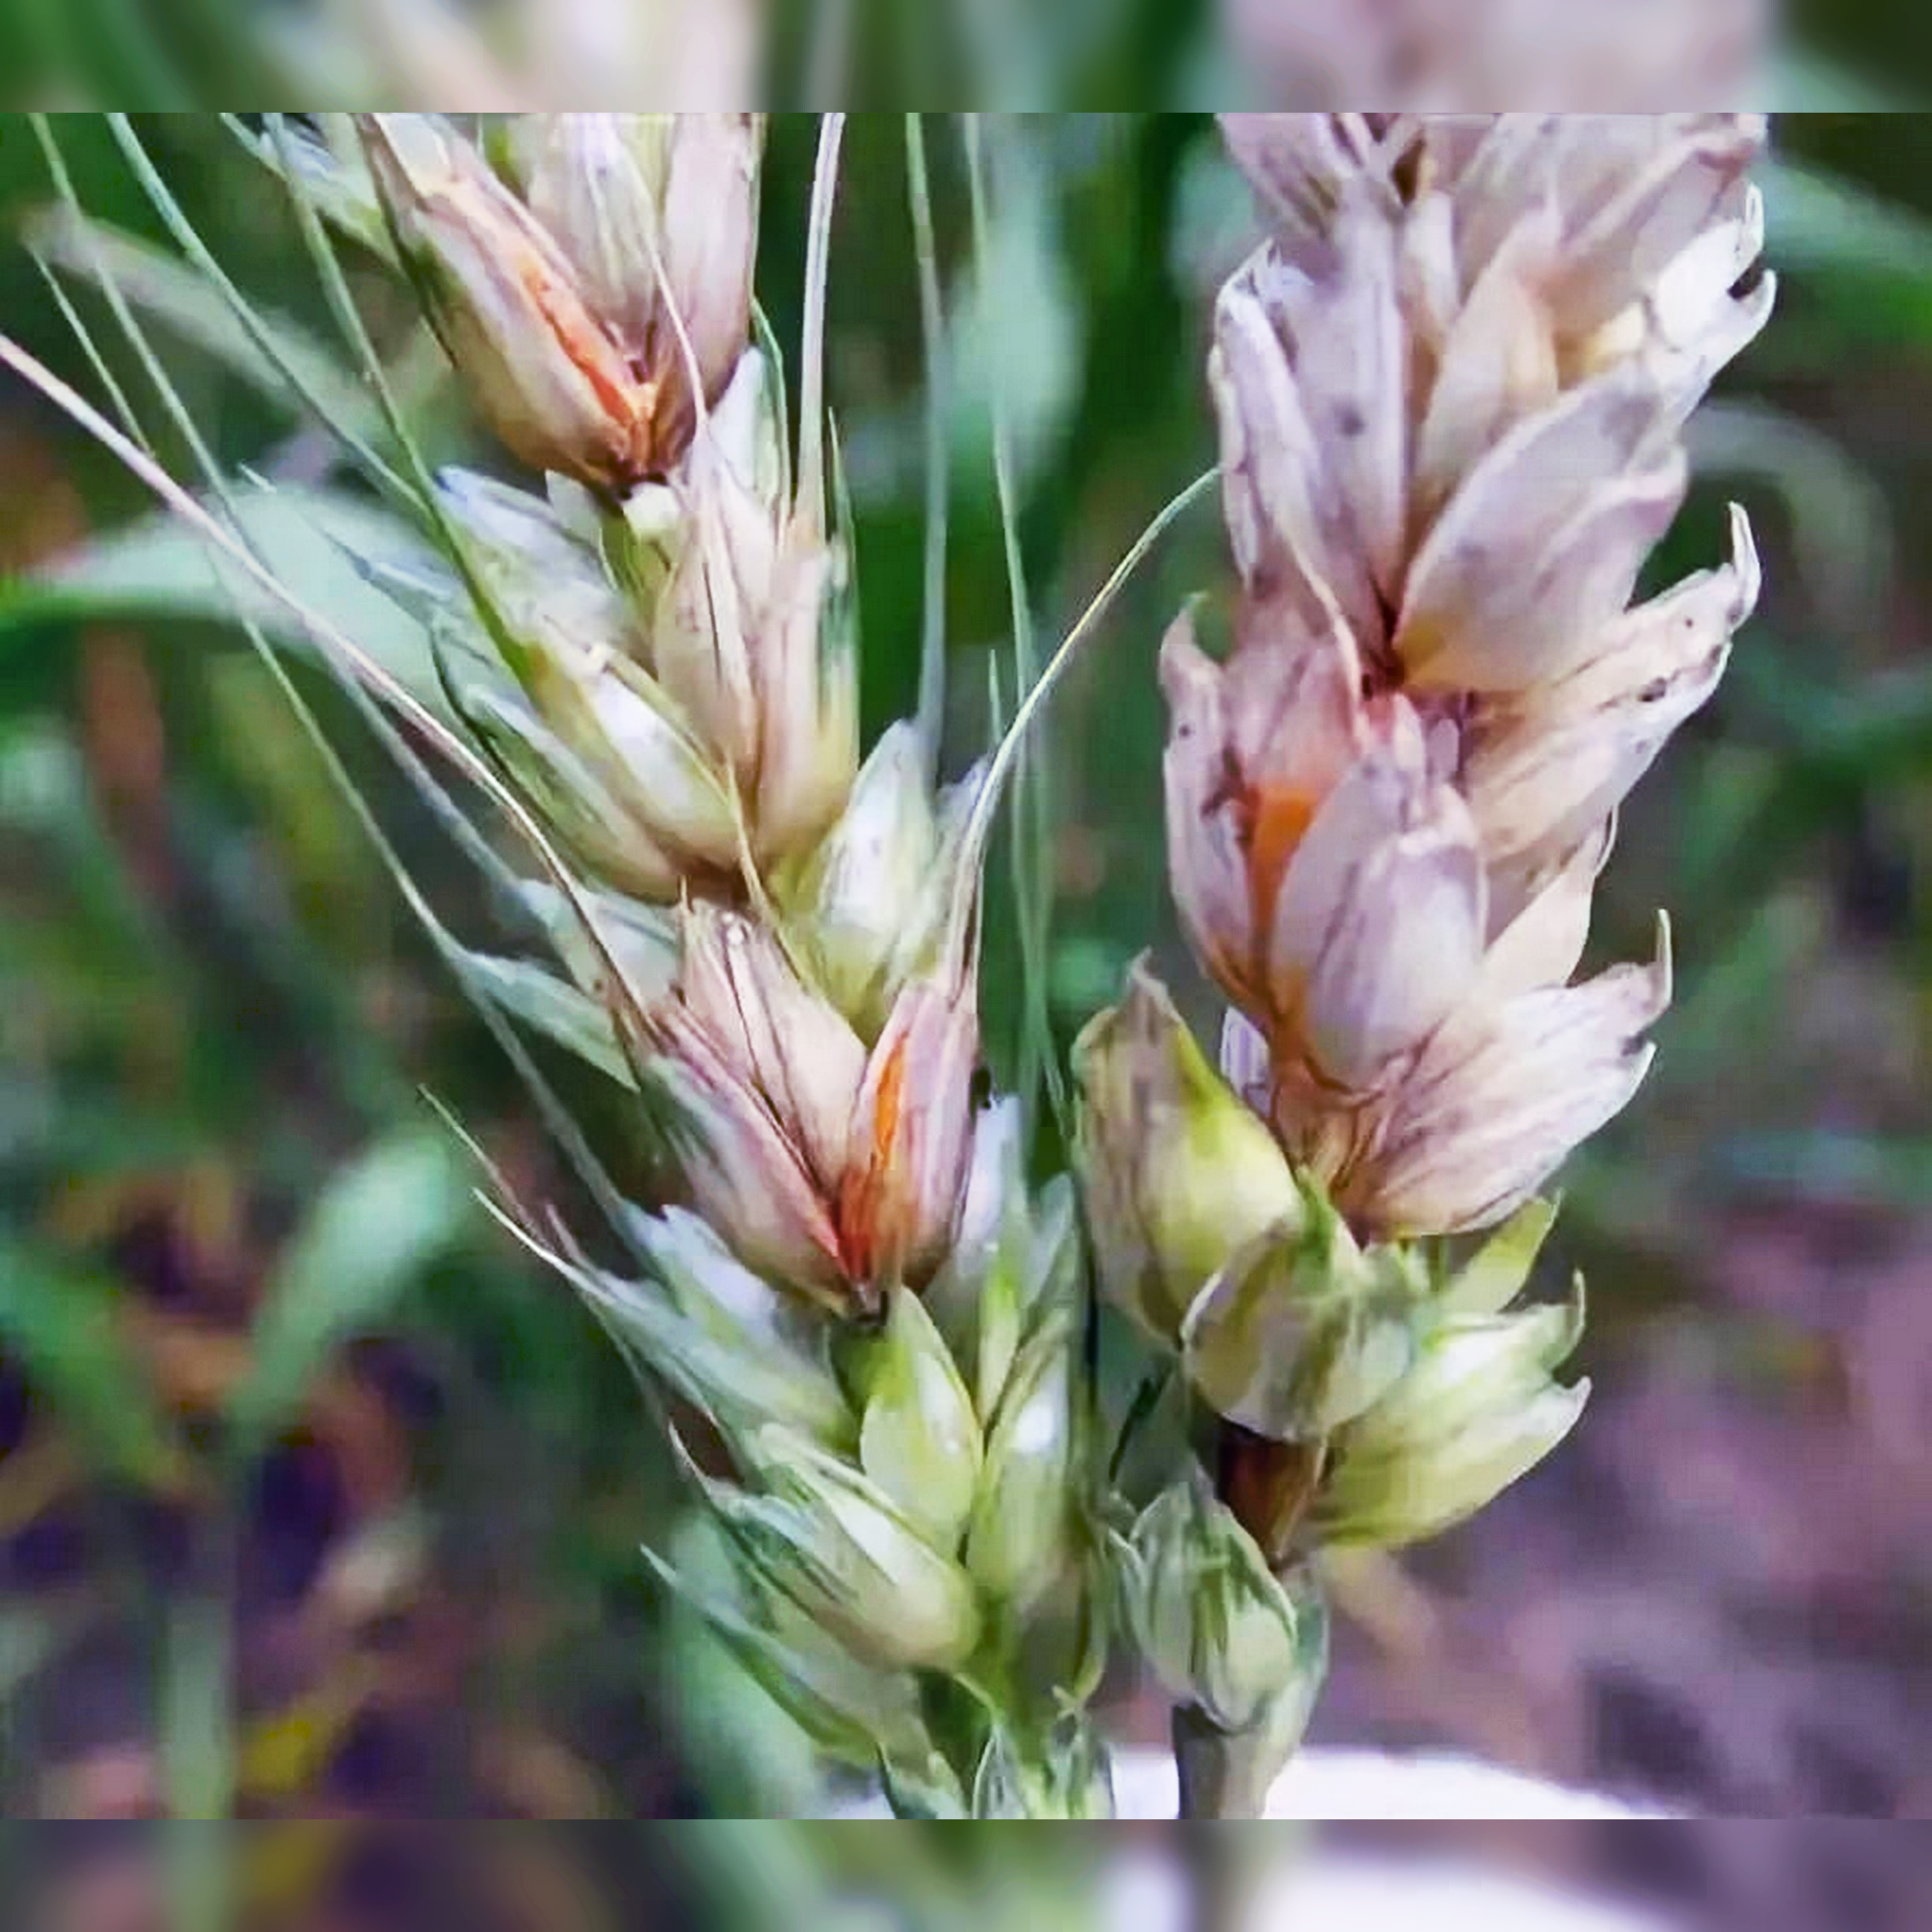Wheat scab: (338, 131, 1748, 1753)
